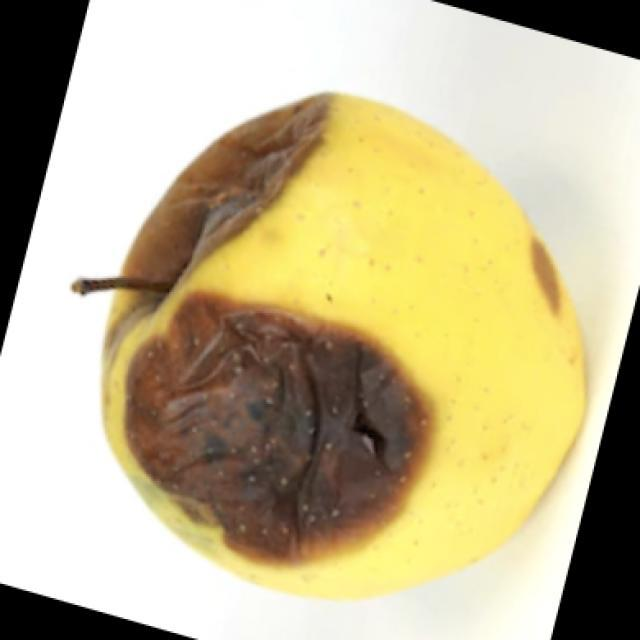Rotten: (117, 92, 608, 595)
